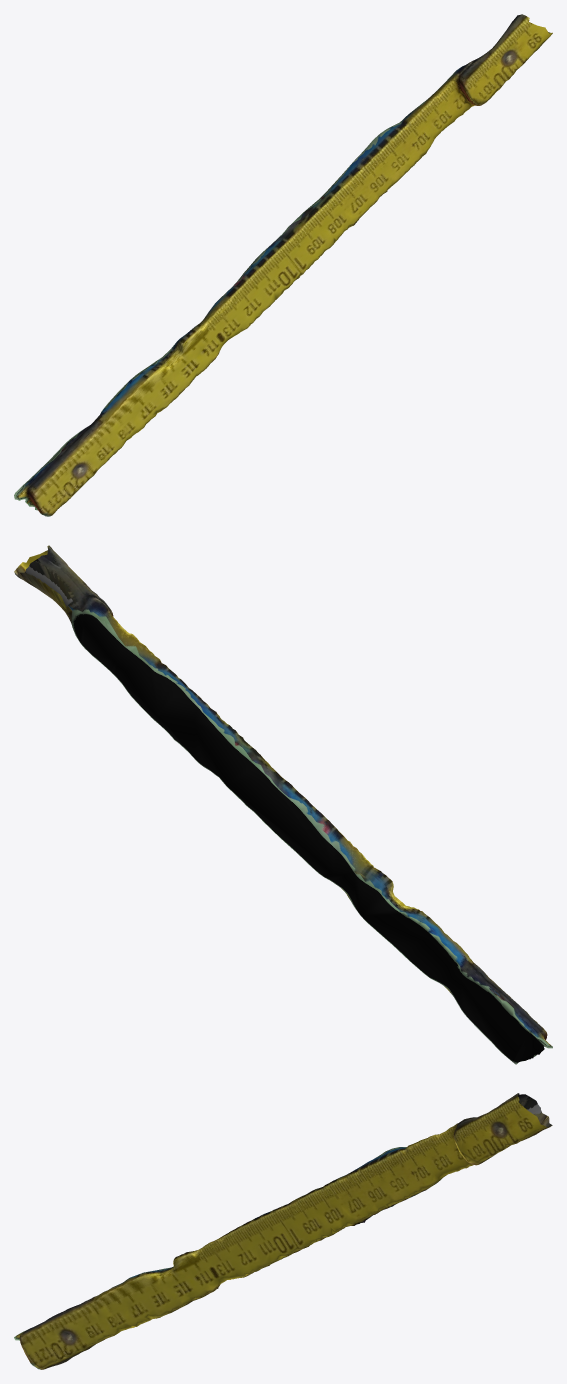
The model's file is fr_middle.dae.
3 renders of one model, top to bottom at view 1: azimuth 30°, elevation 25°; view 2: azimuth 150°, elevation 25°; view 3: azimuth 330°, elevation 25°, orthographic.
Parts seen in each view (by area): view 1: foldingrule_001; view 2: foldingrule_001; view 3: foldingrule_001.
Boxes of the visible parts, left/top/right/bottom form: foldingrule_001: left=14, top=14, right=552, bottom=516; foldingrule_001: left=14, top=545, right=552, bottom=1064; foldingrule_001: left=14, top=1093, right=552, bottom=1369.
Size of the model in its own units: 0.1724 by 0.00719 by 0.1205.
1 material, 1 textured.
